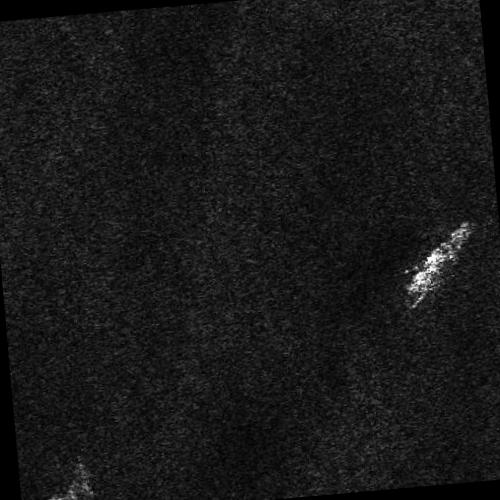ship: (408, 220, 479, 293)
